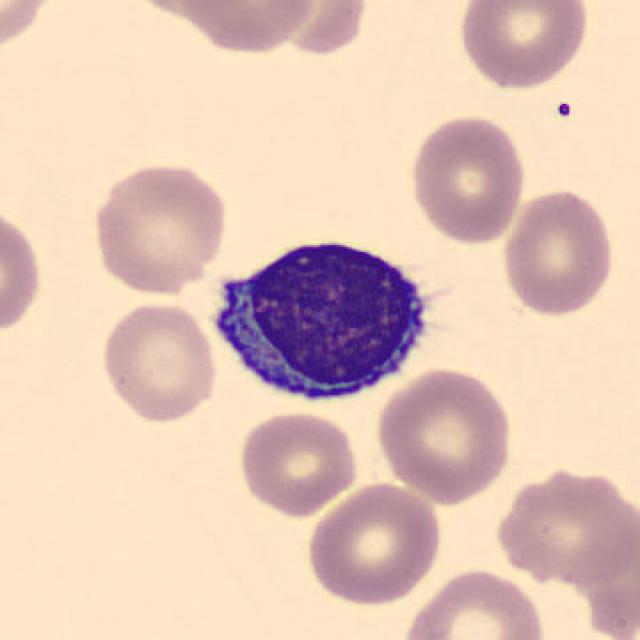Lymphocyte: (199, 220, 446, 411)
RBC: (374, 363, 516, 506), (87, 159, 231, 298), (302, 479, 446, 606), (491, 464, 638, 587), (405, 109, 530, 247), (498, 183, 618, 319), (96, 298, 220, 427), (235, 408, 362, 518), (453, 0, 594, 92), (552, 497, 640, 640), (400, 566, 549, 640), (146, 0, 322, 56), (238, 0, 382, 58), (0, 201, 46, 340), (0, 0, 64, 55)
